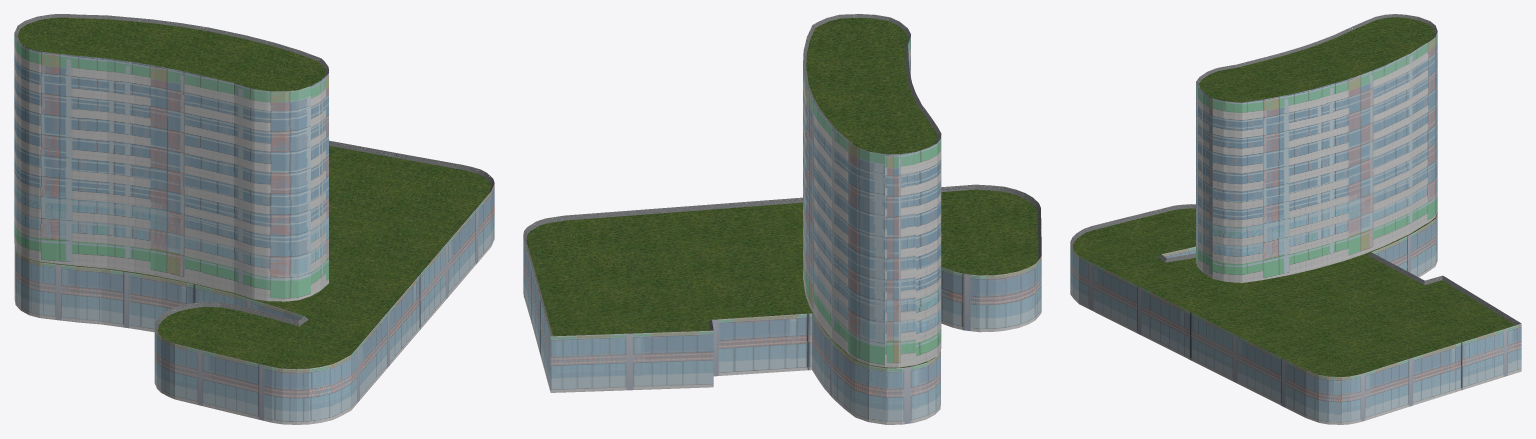
The model's file is lia1.gltf.
The picture shows the model from 3 angles, left to right: view 1: azimuth 30°, elevation 25°; view 2: azimuth 150°, elevation 25°; view 3: azimuth 270°, elevation 25°; orthographic projection. The views are drawn at different scales.
Visible parts, largest first — view 1: Line088; view 2: Line088; view 3: Line088.
Boxes of the visible parts, left/top/right/bottom form: Line088: left=14, top=14, right=494, bottom=424; Line088: left=523, top=14, right=1041, bottom=424; Line088: left=1070, top=14, right=1521, bottom=424.
Bounding box in the file's own units: 634 × 372 × 665.
4 materials, 4 textured.
